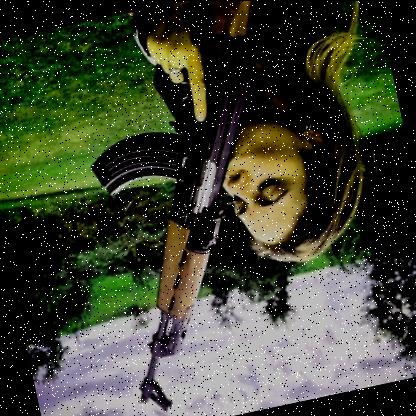rifle: (56, 0, 334, 416)
